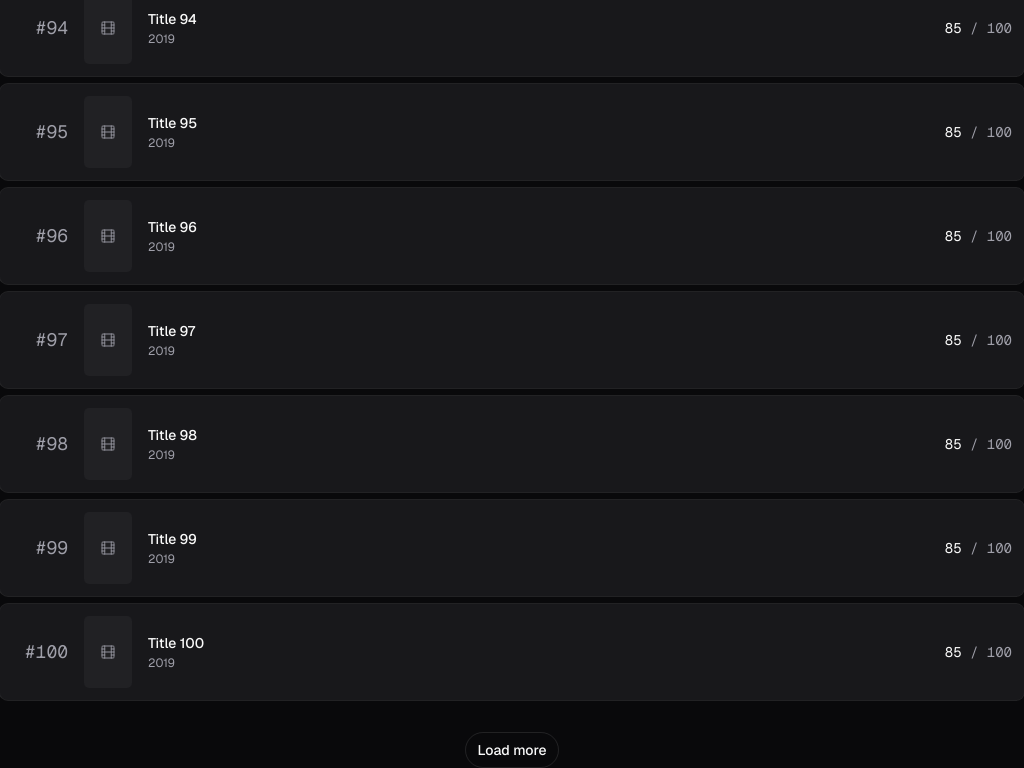
Test: RankingList › pages on a hundred at a time and ends at a short page
(page scrolled)
Click the button "Load more". click: (512, 750)
box: [464, 732, 560, 767]
(page scrolled)
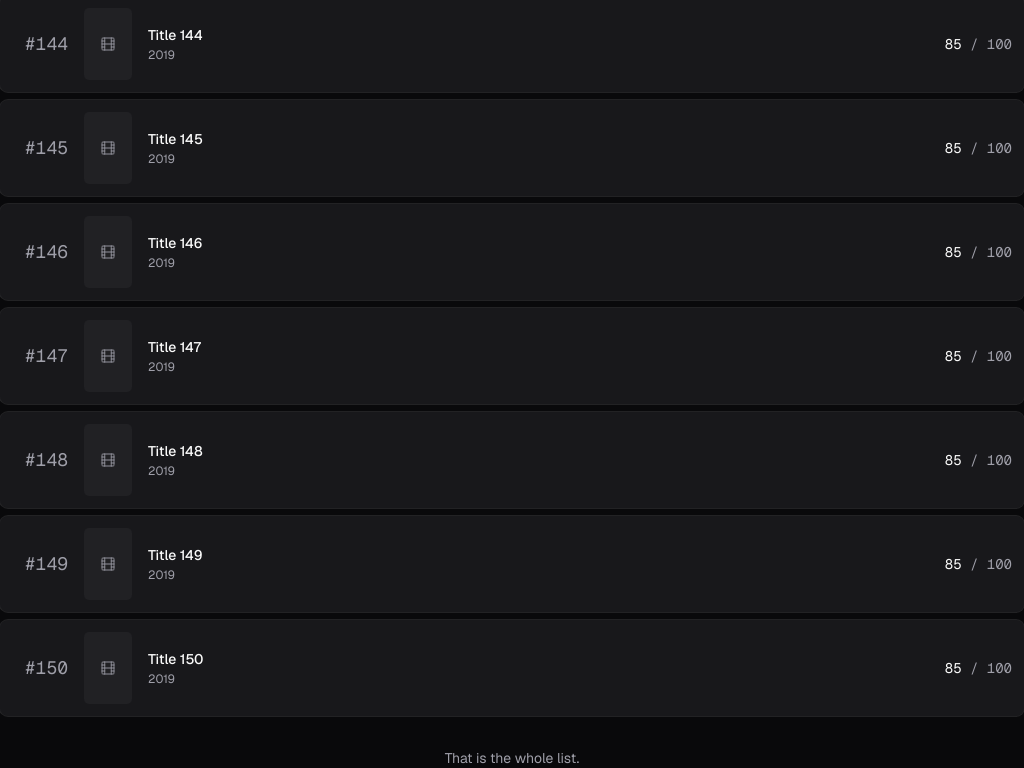
Result: the text "Title 150" is shown at [148, 650, 204, 668]
Result: the text "That is the whole list." is shown at [445, 748, 579, 767]
